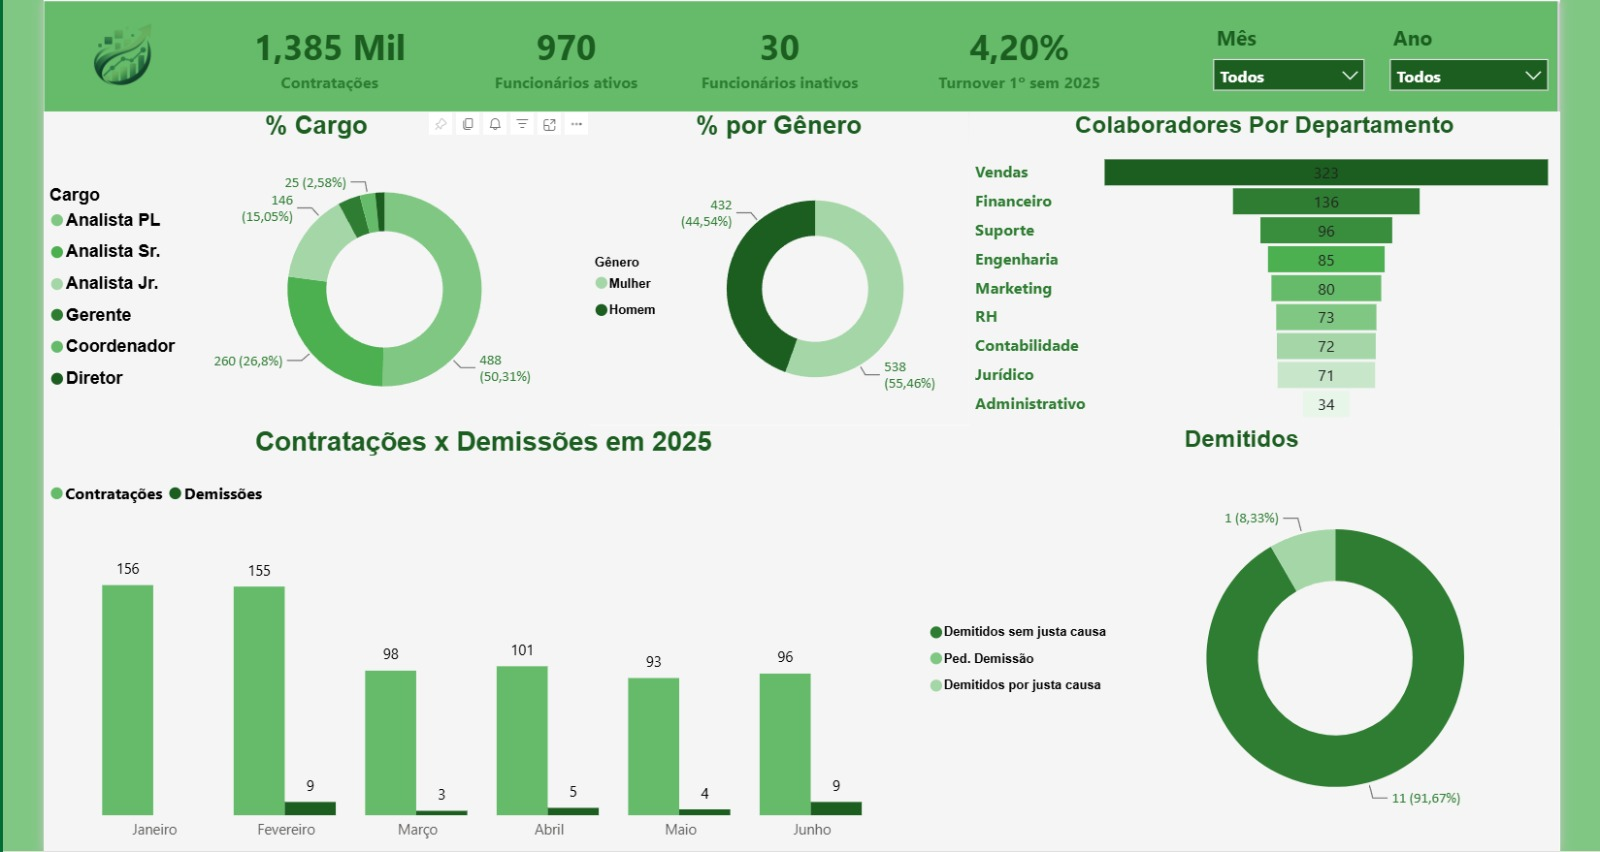

Layout of this report page (visuals, bound fields, positions):
{"tool":"powerbi","page":{"name":"Informações","canvas":[1280,720],"ordinal":0},"visuals":[{"type":"cardVisual","fields":{"Data":["Indicadores.Qtd contratações"]},"box":[147.5,0,188.9,98.3],"z":1000},{"type":"cardVisual","fields":{"Data":["Indicadores.Qtd funcionários ativos"]},"box":[336.4,0,209.1,98],"z":2000},{"type":"cardVisual","fields":{"Data":["Indicadores.Qtd funcionários inativos"]},"box":[516.6,0,209.1,98],"z":3000},{"type":"cardVisual","fields":{"Data":["Indicadores.turnover 1 sem 2025"]},"box":[725.9,0,196.1,98],"z":4000},{"type":"slicer","fields":{"Values":["dCalendario.Nome do Mês"]},"box":[977.5,15.9,148.4,67.2],"z":5000},{"type":"slicer","fields":{"Values":["dCalendario.Ano"]},"box":[1126,15.9,154,67.2],"z":6000},{"type":"donutChart","title":"% por Gênero","fields":{"Category":["dColaborador.genero"],"Y":["Indicadores.Qtd funcionários ativos"]},"box":[460.6,94.9,320.9,264.8],"z":7000},{"type":"donutChart","title":"% Cargo","fields":{"Category":["dColaborador.cargo"],"Y":["Indicadores.Qtd funcionários ativos"]},"box":[0,94.9,460.6,265.7],"z":8000},{"type":"funnel","title":"Colaboradores Por Departamento","fields":{"Category":["dDepartamento.departamento"],"Y":["Indicadores.Qtd funcionários ativos"]},"box":[781.5,94.9,498.5,265.7],"z":9000},{"type":"clusteredColumnChart","title":"Contratações x  Demissões em 2025","fields":{"Y":["Indicadores.Qtd contratações","Indicadores.Qtd demissão Jan - Jun"],"Category":["dCalendario.Nome do Mês"]},"box":[0,360.5,742.6,359.7],"z":10000},{"type":"donutChart","title":"Demitidos","fields":{"Y":["Indicadores.Qtd func. demitidos s justa causa","Indicadores.Qtd func. ped. demissao","Indicadores.Qtd func. demitidos p justa causa"]},"box":[743.1,360.1,536.9,360.1],"z":11000},{"type":"image","box":[0,0,130.6,94.6],"z":11001}]}

Visuals, with their boxes on the page's 1280x720 design canvas (x1, y1, x2, y2). These are canvas units, not pixel positions in the 1600x852 screenshot, which may show the page scaled, cropped or inside an application window:
cardVisual - Indicadores.Qtd contratações: x1=148 y1=0 x2=336 y2=98
cardVisual - Indicadores.Qtd funcionários ativos: x1=336 y1=0 x2=546 y2=98
cardVisual - Indicadores.Qtd funcionários inativos: x1=517 y1=0 x2=726 y2=98
cardVisual - Indicadores.turnover 1 sem 2025: x1=726 y1=0 x2=922 y2=98
slicer - dCalendario.Nome do Mês: x1=978 y1=16 x2=1126 y2=83
slicer - dCalendario.Ano: x1=1126 y1=16 x2=1280 y2=83
"% por Gênero" donutChart: x1=461 y1=95 x2=782 y2=360
"% Cargo" donutChart: x1=0 y1=95 x2=461 y2=361
"Colaboradores Por Departamento" funnel: x1=782 y1=95 x2=1280 y2=361
"Contratações x  Demissões em 2025" clusteredColumnChart: x1=0 y1=360 x2=743 y2=720
"Demitidos" donutChart: x1=743 y1=360 x2=1280 y2=720
image: x1=0 y1=0 x2=131 y2=95
